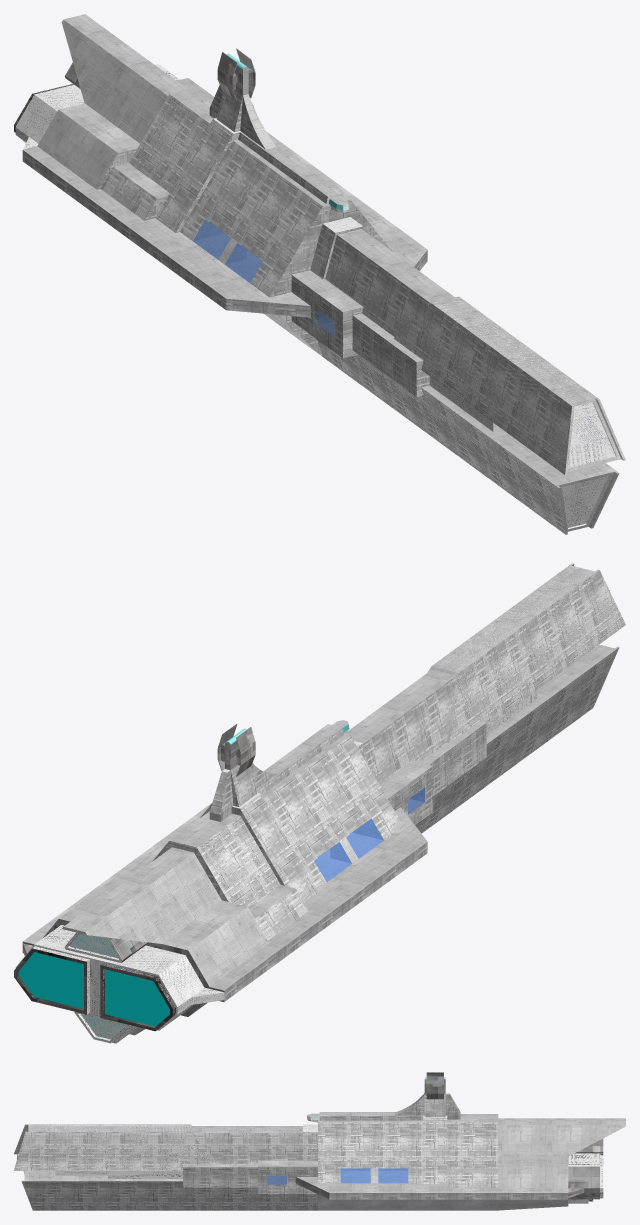
File: Cruceroestelarc2.dae
3 views of the same model, one above another, from view 1: azimuth 30°, elevation 25°; view 2: azimuth 150°, elevation 25°; view 3: azimuth 270°, elevation 25° (orthographic). The views are drawn at different scales.
Visible parts, largest first — view 1: SketchUp (×12); view 2: SketchUp (×15); view 3: SketchUp (×12).
Boxes of the visible parts, x1,y1,x2,y2 form: SketchUp (×12): (15,14,625,534); SketchUp (×15): (14,563,625,1035); SketchUp (×12): (14,1076,625,1210).
Bounding box in the file's own units: 21496 × 96260 × 22913.
12 materials, 7 textured.
